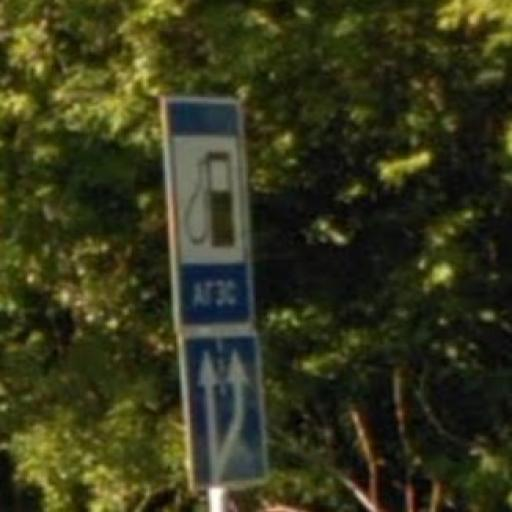traffic_sign: (158, 94, 259, 334)
